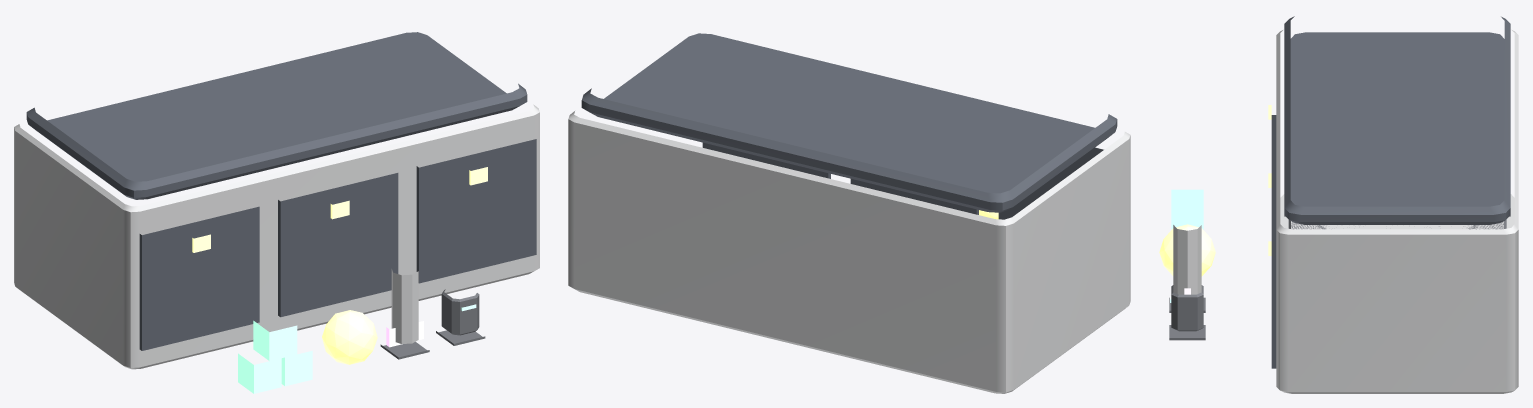
The model's file is iter_02.glb.
The picture shows the model from 3 angles, left to right: view 1: azimuth 30°, elevation 25°; view 2: azimuth 150°, elevation 25°; view 3: azimuth 270°, elevation 25°; orthographic projection. The views are drawn at different scales.
Parts seen in each view (by area): view 1: Bench_Body, Cubby_Doors, Seat_Pad, Toy_Blocks, Toy_Ball, Toy_Rocket, Toy_Sprocket, Mag_Pads, Door_Latches; view 2: Bench_Body, Seat_Pad, Cubby_Doors; view 3: Seat_Pad, Bench_Body, Toy_Rocket, Cubby_Doors, Toy_Sprocket, Toy_Blocks, Toy_Ball, Mag_Pads, Plinth.
Boxes of the visible parts, bbox=[...] form: Bench_Body: bbox=[14, 104, 539, 369]; Cubby_Doors: bbox=[139, 139, 536, 350]; Seat_Pad: bbox=[26, 32, 527, 199]; Toy_Blocks: bbox=[238, 320, 312, 393]; Toy_Ball: bbox=[322, 310, 377, 364]; Toy_Rocket: bbox=[391, 269, 418, 343]; Toy_Sprocket: bbox=[441, 289, 479, 335]; Mag_Pads: bbox=[380, 330, 485, 359]; Door_Latches: bbox=[192, 167, 487, 252]; Bench_Body: bbox=[568, 111, 1130, 393]; Seat_Pad: bbox=[581, 33, 1117, 212]; Cubby_Doors: bbox=[702, 142, 1103, 219]; Seat_Pad: bbox=[1284, 16, 1510, 224]; Bench_Body: bbox=[1276, 30, 1518, 393]; Toy_Rocket: bbox=[1173, 225, 1201, 294]; Cubby_Doors: bbox=[1271, 115, 1276, 368]; Toy_Sprocket: bbox=[1171, 285, 1203, 331]; Toy_Blocks: bbox=[1171, 189, 1203, 229]; Toy_Ball: bbox=[1159, 224, 1215, 276]; Mag_Pads: bbox=[1169, 297, 1205, 340]; Plinth: bbox=[1288, 219, 1506, 229].
Size of the model in its own units: 1.2 by 0.5 by 0.89.
